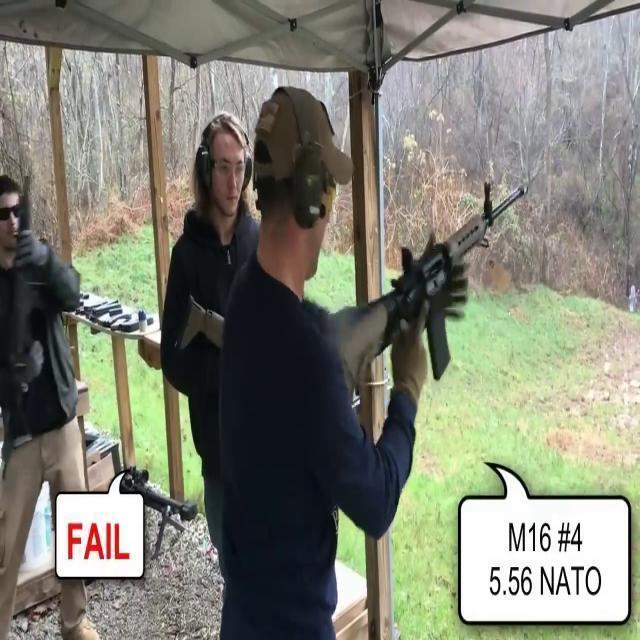Rifle: (322, 173, 534, 445)
